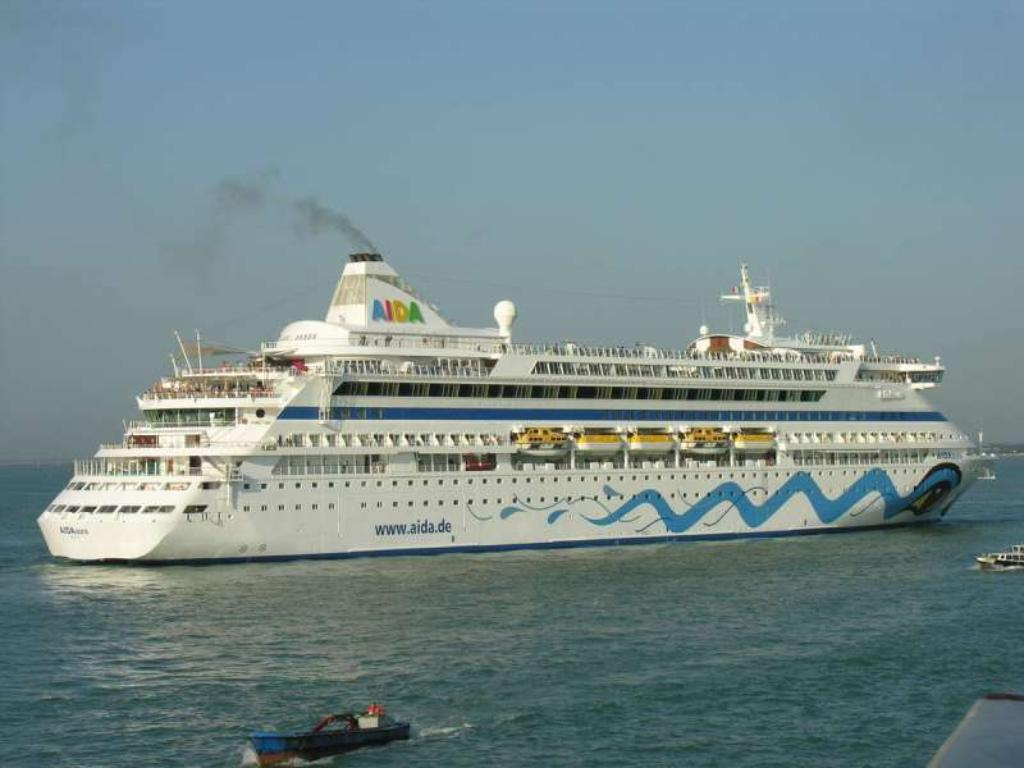PassengerShip: (24, 247, 998, 572)
